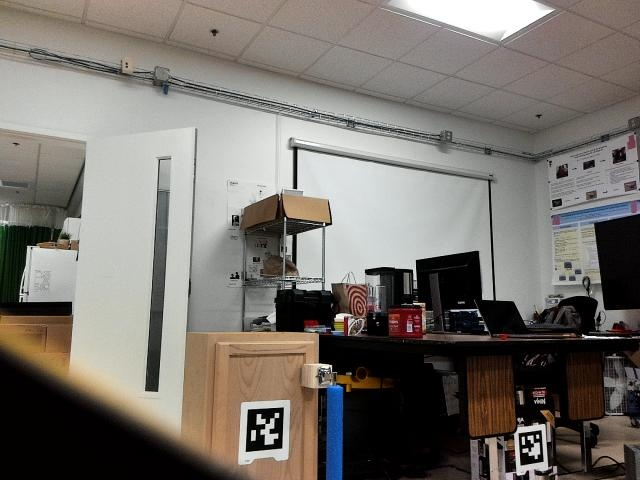noodle_handle: (318, 376, 351, 480)
